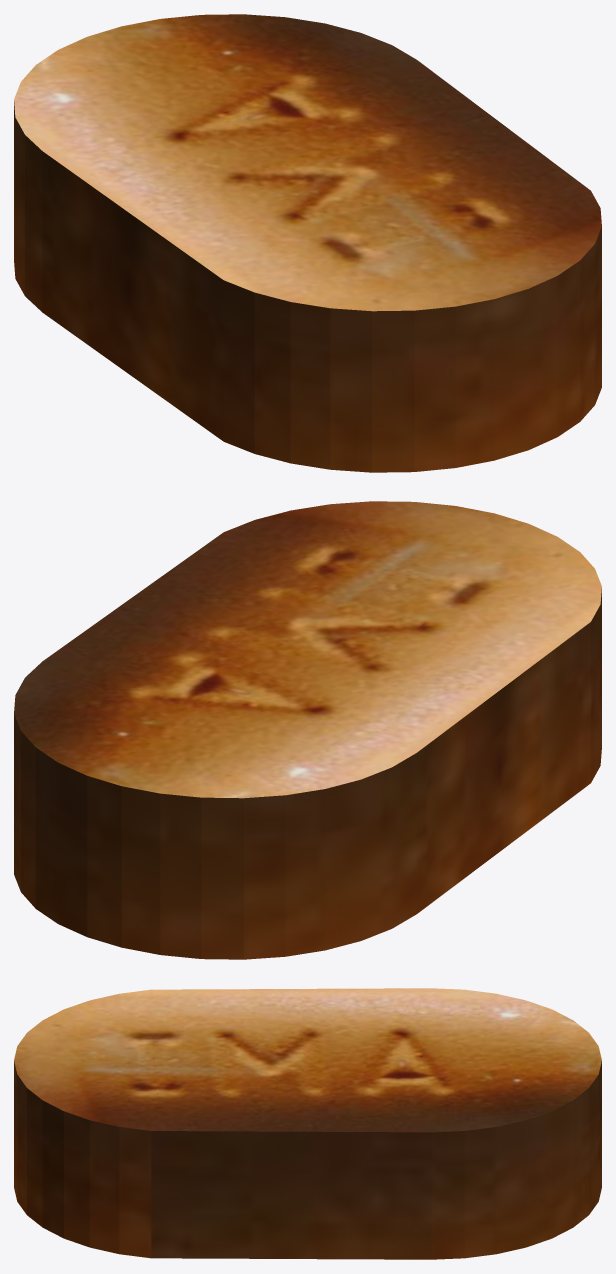
3 views of the same model, one above another, from view 1: azimuth 30°, elevation 25°; view 2: azimuth 150°, elevation 25°; view 3: azimuth 270°, elevation 25° (orthographic). The views are drawn at different scales.
Visible parts, largest first — view 1: 圓柱體; view 2: 圓柱體; view 3: 圓柱體.
Part boxes in pixels (x1,y1,x2,y2): 圓柱體: (14, 14, 601, 472); 圓柱體: (14, 501, 601, 959); 圓柱體: (14, 988, 601, 1259).
Bounding box in the file's own units: 1.7 × 0.7007 × 2.93.
Materials: 1 (1 with a texture image).
